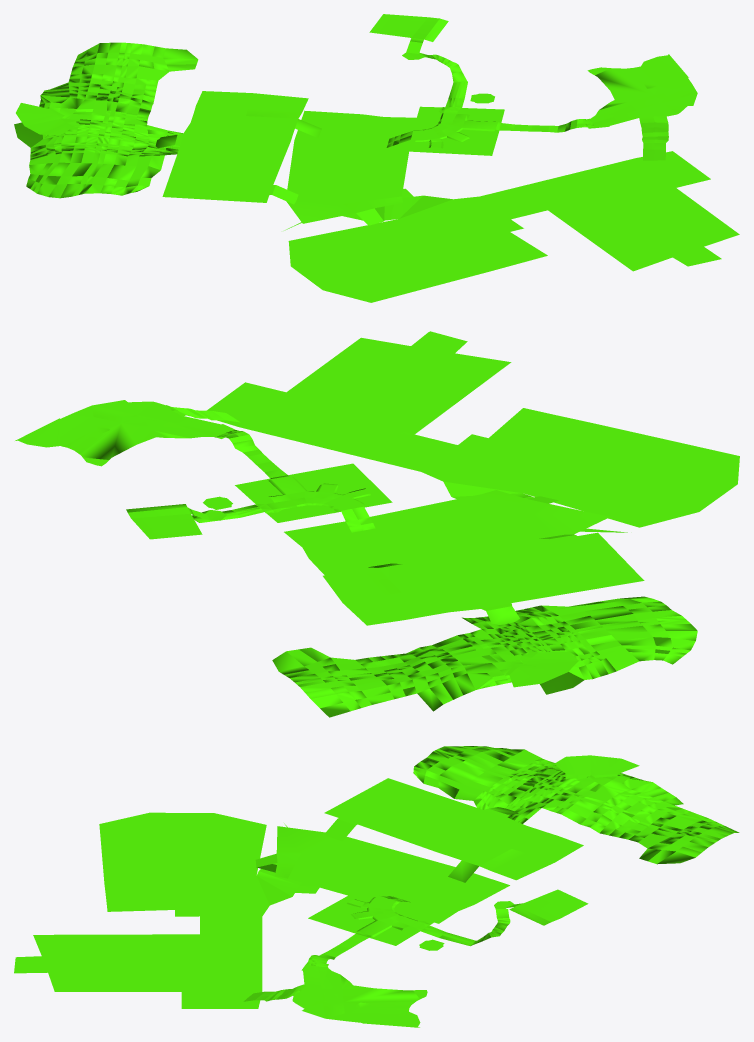
The model's file is zudang01.FBX.
3 renders of one model, top to bottom at view 1: azimuth 30°, elevation 25°; view 2: azimuth 150°, elevation 25°; view 3: azimuth 270°, elevation 25°, orthographic. The views are drawn at different scales.
Parts seen in each view (by area): view 1: zudang01; view 2: zudang01; view 3: zudang01.
Part boxes in pixels (x1,y1,x2,y2): zudang01: [14, 14, 739, 302]; zudang01: [15, 331, 739, 717]; zudang01: [14, 746, 739, 1027].
Size of the model in its own units: 166 by 12.84 by 173.
